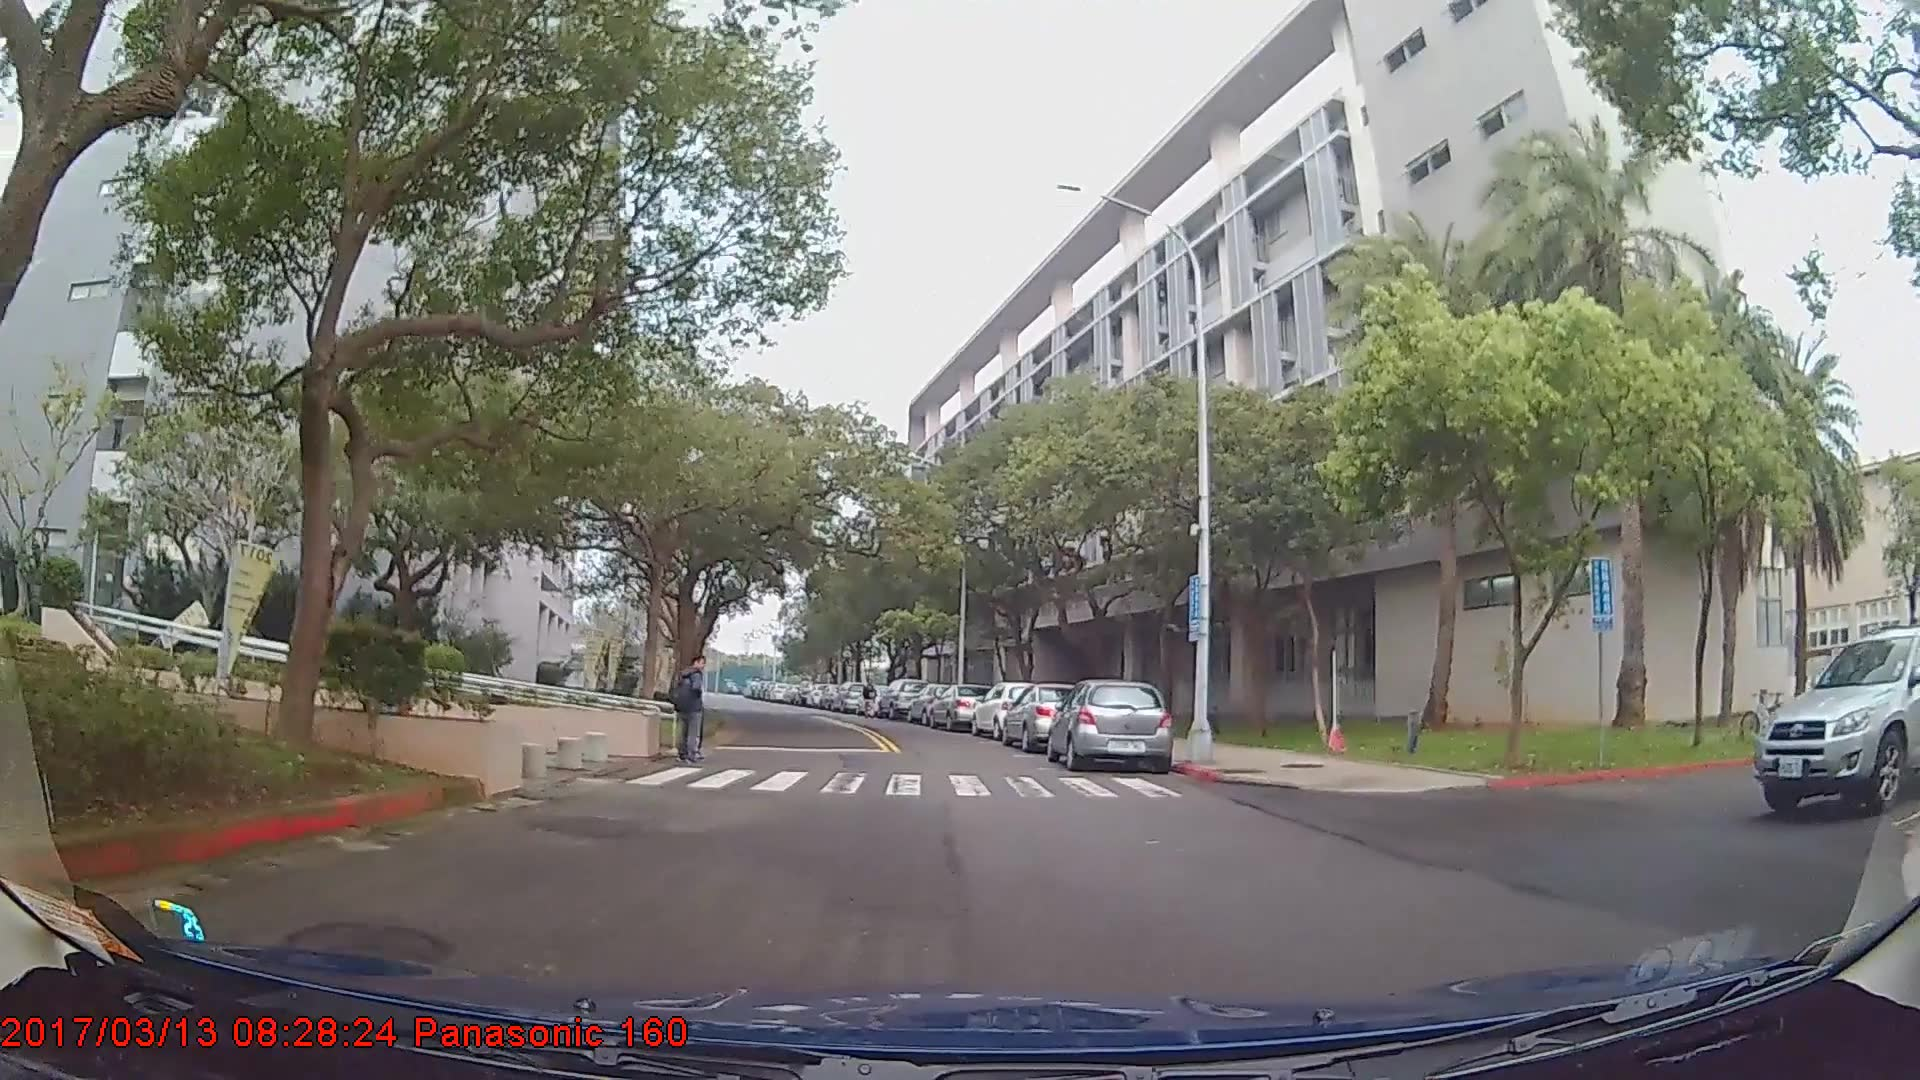pedestrian: (676, 658, 717, 775), (861, 677, 881, 719)
vehicle: (1751, 626, 1920, 816), (1046, 676, 1171, 770), (1000, 683, 1095, 750), (971, 679, 1054, 739), (928, 681, 994, 731), (876, 674, 927, 718)
